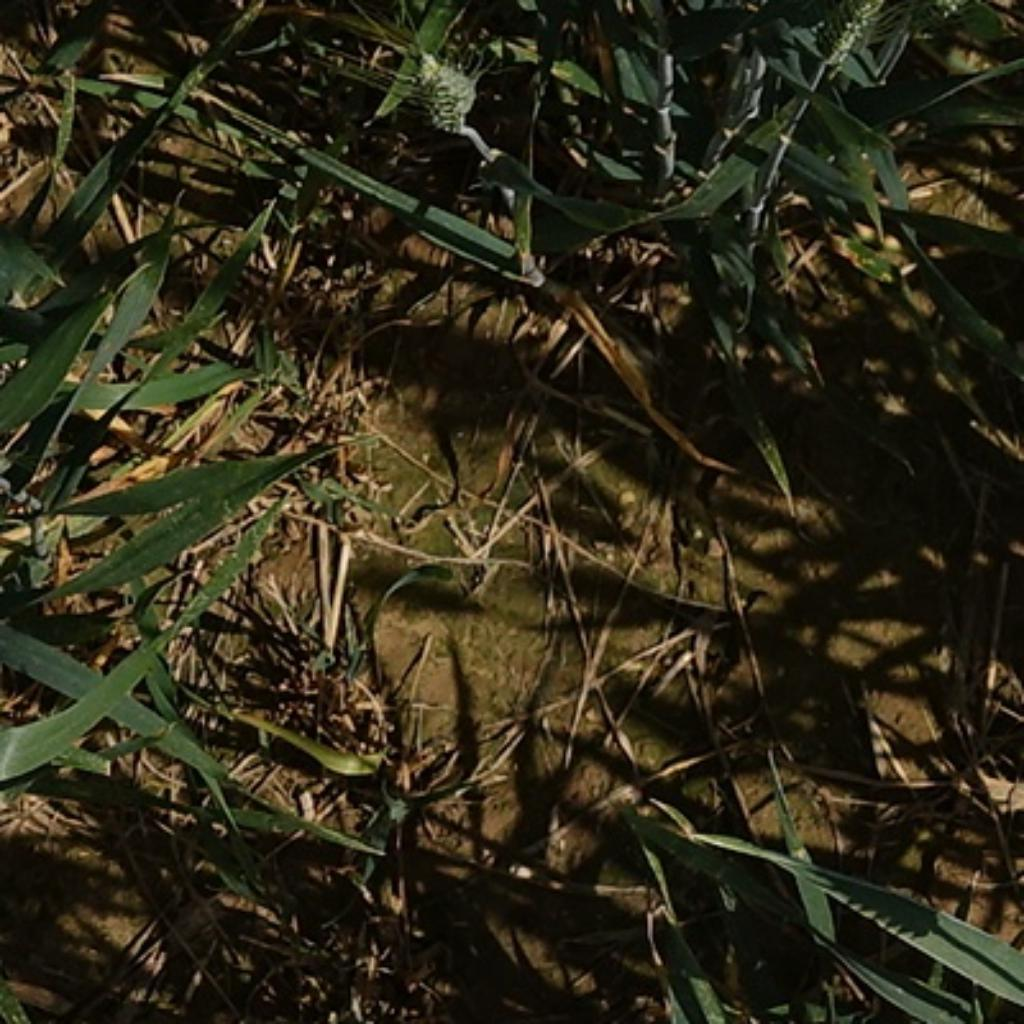0-0: (409, 50, 479, 133), (809, 0, 886, 59)
